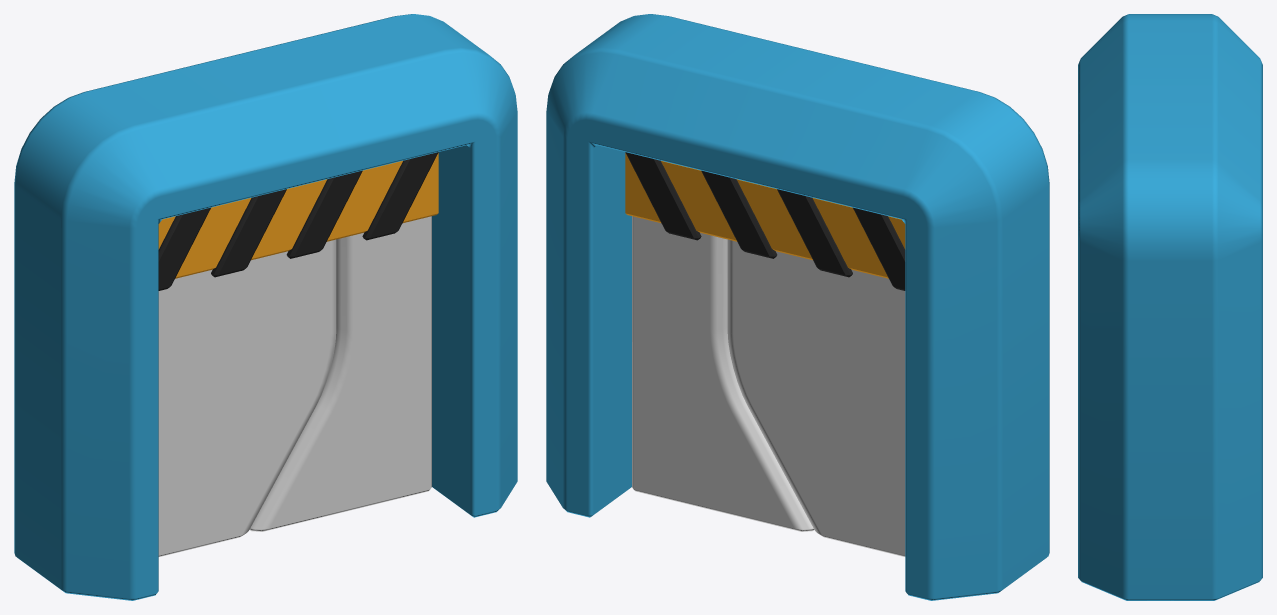
The model's file is Door_2m.fbx.
3 views of the same model, side by side, from view 1: azimuth 30°, elevation 25°; view 2: azimuth 150°, elevation 25°; view 3: azimuth 270°, elevation 25° (orthographic). The views are drawn at different scales.
Visible parts, largest first — view 1: Door_Frame, Door; view 2: Door_Frame, Door; view 3: Door_Frame.
Boxes of the visible parts, x1,y1,x2,y2 form: Door_Frame: (14,14,517,600); Door: (158,152,438,556); Door_Frame: (546,14,1049,600); Door: (625,152,905,556); Door_Frame: (1078,14,1262,600).
Size of the model in its own units: 255 by 241 by 98.15.
